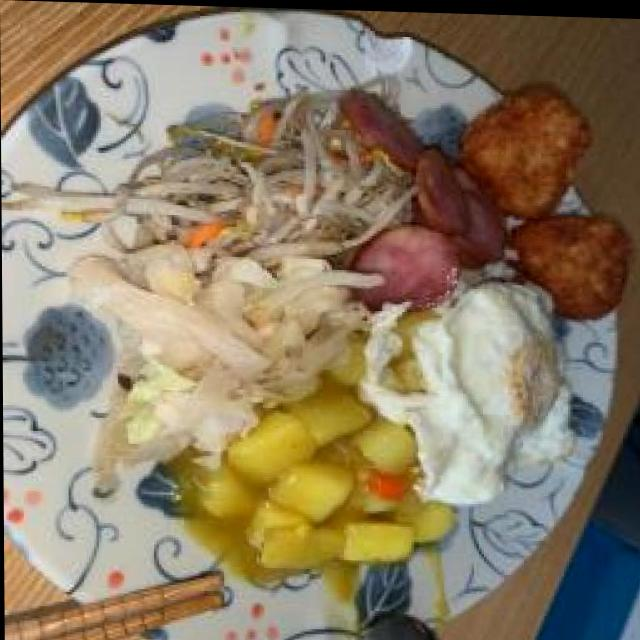chinese_cabbage: (111, 251, 331, 446)
chinese_sausage: (348, 93, 513, 322)
curry: (247, 388, 416, 590)
fried_eggs: (400, 274, 576, 506)
mung_bean_sprouts: (179, 119, 352, 251)
triangle_hash_brown: (468, 78, 635, 330)
